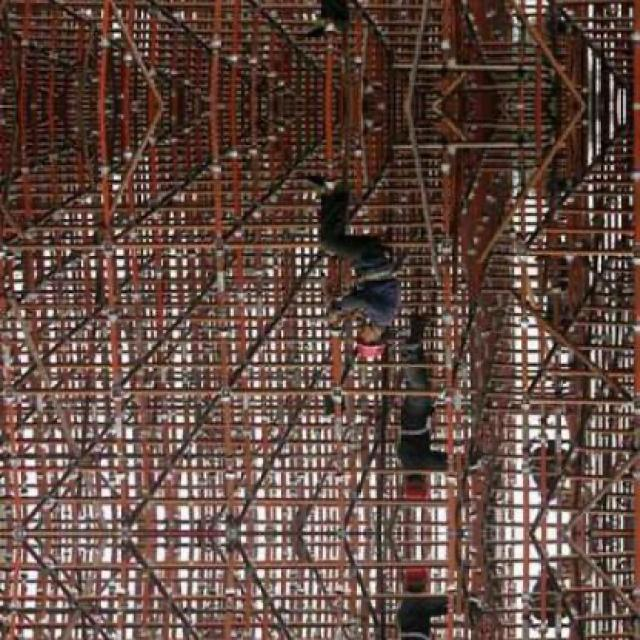con casco: (323, 330, 388, 377), (393, 550, 446, 591), (383, 480, 431, 518)
